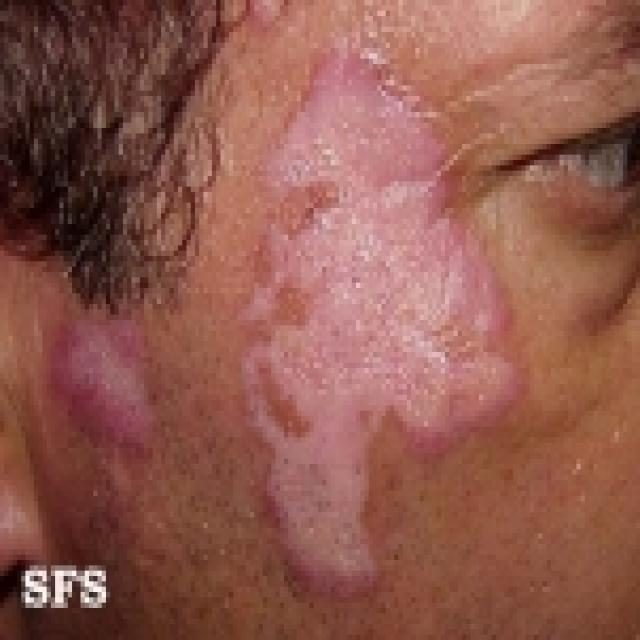lupus: (246, 37, 527, 622)
